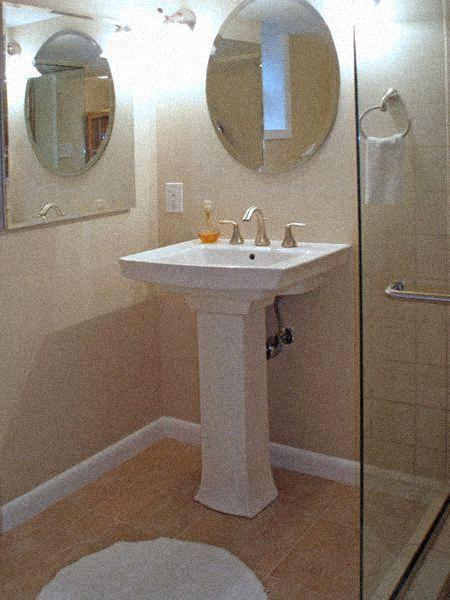Ducha: (353, 4, 449, 599)
Lavamanos: (120, 216, 341, 318)
